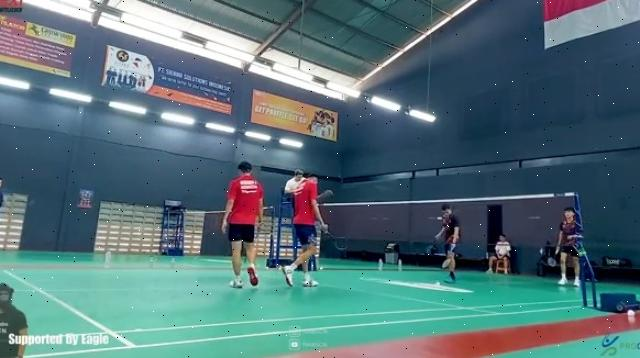Shuttlecock: (434, 280, 444, 290)
